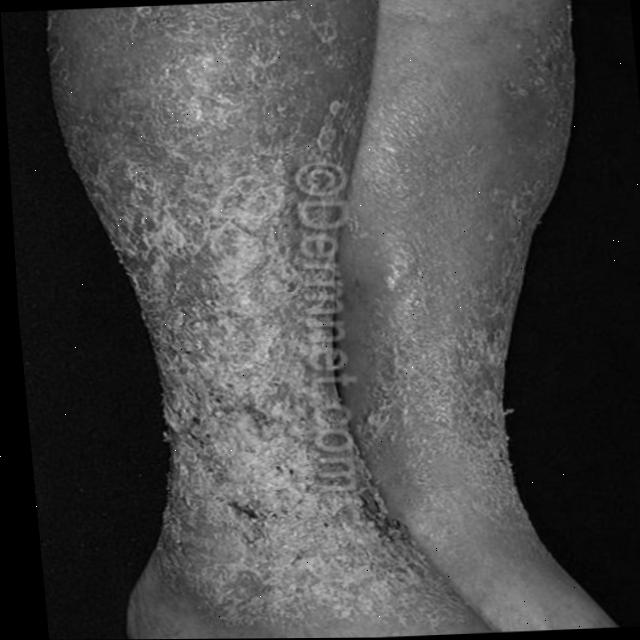Eczema: (119, 27, 522, 545)
